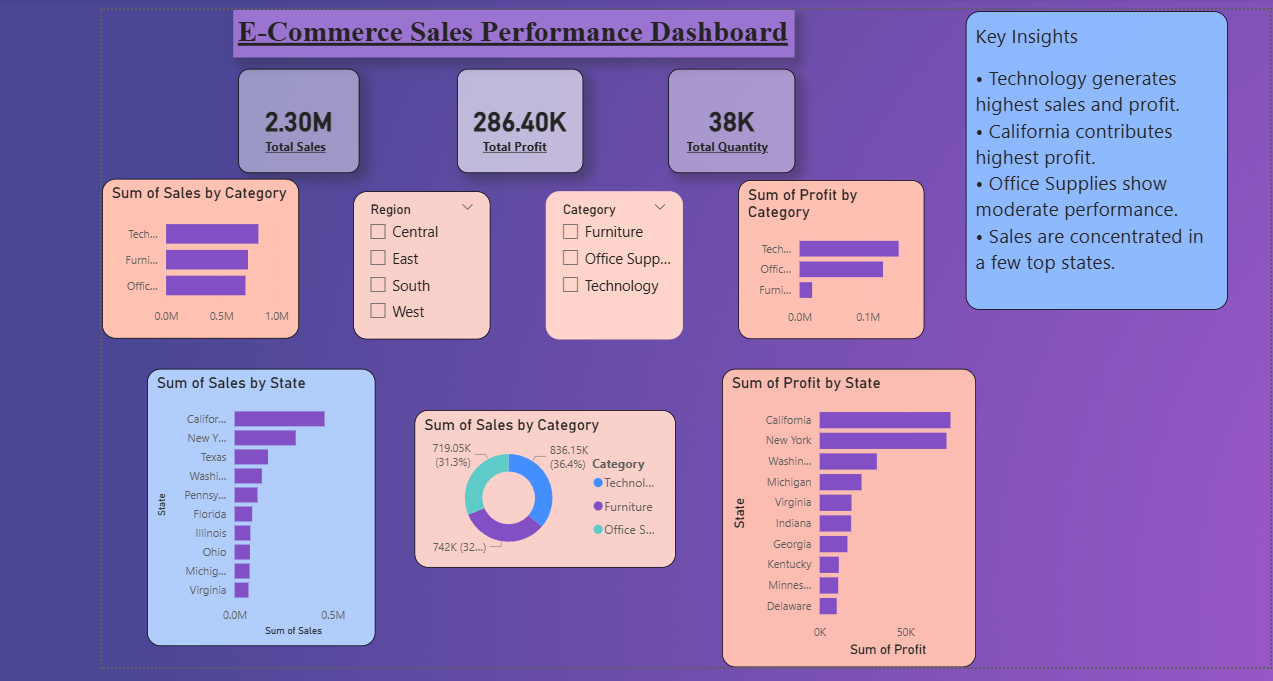

Layout of this report page (visuals, bound fields, positions):
{"tool":"powerbi","page":{"name":"Page 1","canvas":[1280,720],"ordinal":0},"visuals":[{"type":"card","fields":{"Values":["Sum(SampleSuperstore.Sales)"]},"box":[149,64,133,114],"z":0},{"type":"card","fields":{"Values":["Sum(SampleSuperstore.Profit)"]},"box":[389,64,138,114],"z":1000},{"type":"card","fields":{"Values":["Sum(SampleSuperstore.Quantity)"]},"box":[620,64,139,114],"z":2000},{"type":"clusteredBarChart","fields":{"Category":["SampleSuperstore.Category"],"Y":["Sum(SampleSuperstore.Sales)"]},"box":[0,185,216,175],"z":3000},{"type":"clusteredBarChart","fields":{"Category":["SampleSuperstore.Category"],"Y":["Sum(SampleSuperstore.Profit)"]},"box":[697,186,204,174],"z":4000},{"type":"clusteredBarChart","fields":{"Category":["SampleSuperstore.State"],"Y":["Sum(SampleSuperstore.Sales)"]},"box":[49,393,250,304],"z":5000},{"type":"clusteredBarChart","fields":{"Category":["SampleSuperstore.State"],"Y":["Sum(SampleSuperstore.Profit)"]},"box":[680,393,278,327],"z":6000},{"type":"textbox","box":[144,0,615,52],"z":7000},{"type":"slicer","fields":{"Values":["SampleSuperstore.Region"]},"box":[276,198,150,162],"z":8000},{"type":"slicer","fields":{"Values":["SampleSuperstore.Category"]},"box":[486,198,150,162],"z":9000},{"type":"textbox","box":[174,136,84,30],"z":10000},{"type":"textbox","box":[412,136,91,30],"z":11000},{"type":"textbox","box":[636,136,108,30],"z":12000},{"type":"donutChart","fields":{"Category":["SampleSuperstore.Category"],"Y":["Sum(SampleSuperstore.Sales)"]},"box":[343,438,286,173],"z":12001},{"type":"textbox","box":[946,2,287,327],"z":12002}]}

Visuals, with their boxes in screenshot pixels (x1, y1, x2, y2):
card - Sum(SampleSuperstore.Sales): 240 71 359 173
card - Sum(SampleSuperstore.Profit): 455 71 579 173
card - Sum(SampleSuperstore.Quantity): 663 71 788 173
clusteredBarChart - SampleSuperstore.Category x Sum(SampleSuperstore.Sales): 106 179 300 336
clusteredBarChart - SampleSuperstore.Category x Sum(SampleSuperstore.Profit): 732 180 915 336
clusteredBarChart - SampleSuperstore.State x Sum(SampleSuperstore.Sales): 150 366 375 639
clusteredBarChart - SampleSuperstore.State x Sum(SampleSuperstore.Profit): 717 366 966 660
textbox: 235 13 788 60
slicer - SampleSuperstore.Region: 354 191 489 336
slicer - SampleSuperstore.Category: 542 191 677 336
textbox: 262 135 338 162
textbox: 476 135 558 162
textbox: 677 135 774 162
donutChart - SampleSuperstore.Category x Sum(SampleSuperstore.Sales): 414 407 671 562
textbox: 955 15 1213 309
